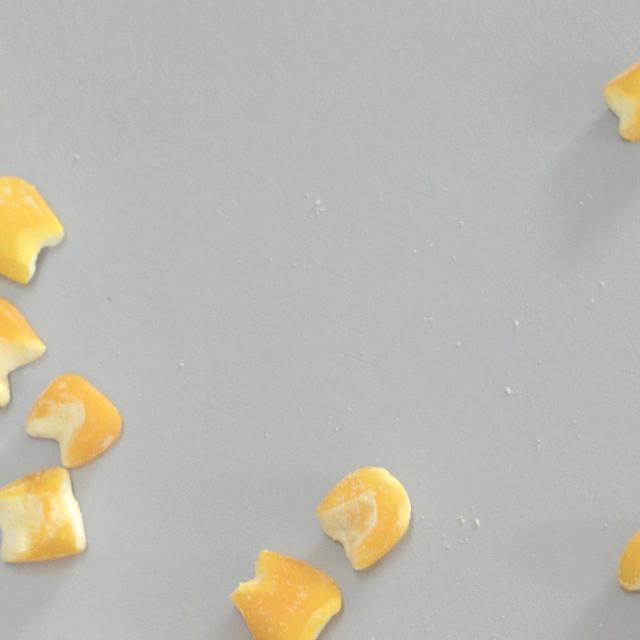no_canjicado: (228, 548, 343, 640), (0, 293, 46, 408), (601, 54, 640, 143)
no_desgerminado: (0, 466, 86, 562)
pelicula: (314, 465, 410, 570), (22, 372, 122, 468), (0, 174, 65, 284), (618, 512, 640, 610)
